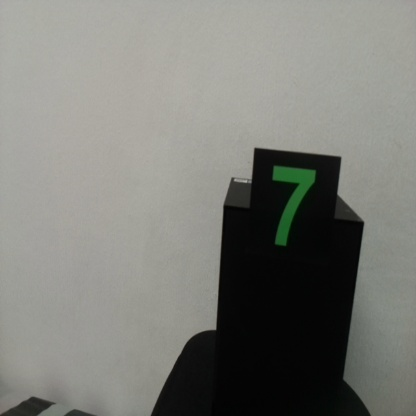id_7: (252, 149, 338, 287)
